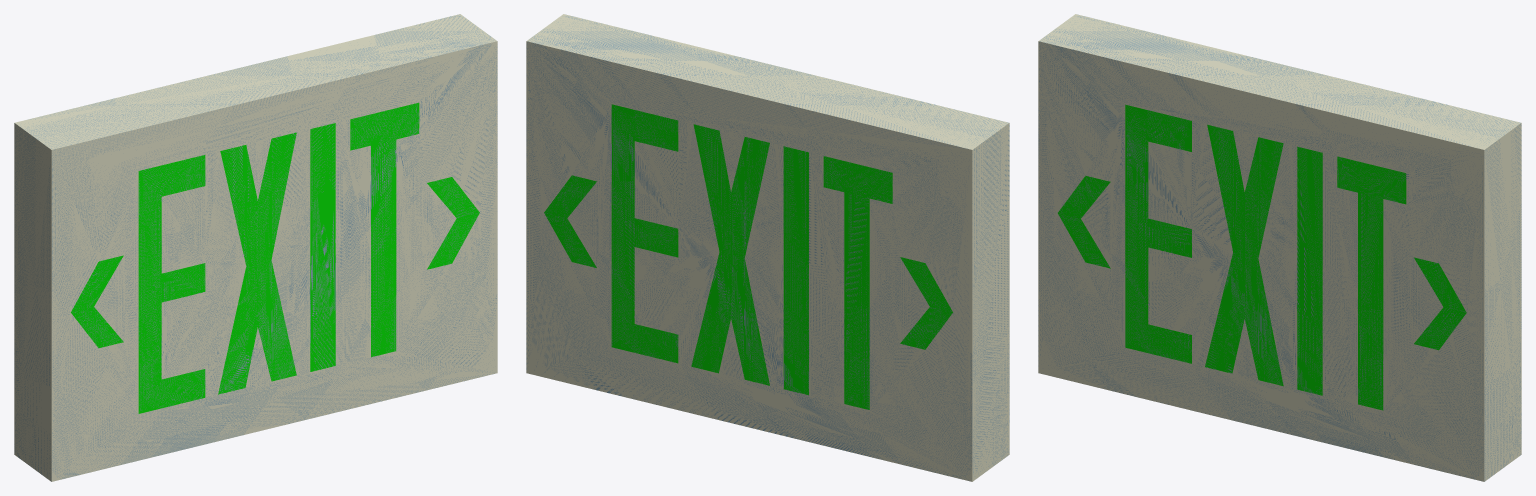
The model's file is Exit Sign.fbx.
3 views of the same model, side by side, from view 1: azimuth 30°, elevation 25°; view 2: azimuth 150°, elevation 25°; view 3: azimuth 330°, elevation 25° (orthographic).
Parts seen in each view (by area): view 1: Exit_Board1, Exit_G2; view 2: Exit_Board1, Exit_G1; view 3: Exit_Board1, Exit_G2.
Part boxes in pixels (left/top/right/bottom): Exit_Board1: left=14, top=14, right=497, bottom=481; Exit_G2: left=71, top=102, right=479, bottom=413; Exit_Board1: left=526, top=14, right=1009, bottom=481; Exit_G1: left=544, top=104, right=952, bottom=409; Exit_Board1: left=1038, top=14, right=1521, bottom=481; Exit_G2: left=1058, top=104, right=1466, bottom=410.
Bounding box in the file's own units: 0.308 × 0.2191 × 0.0444.
